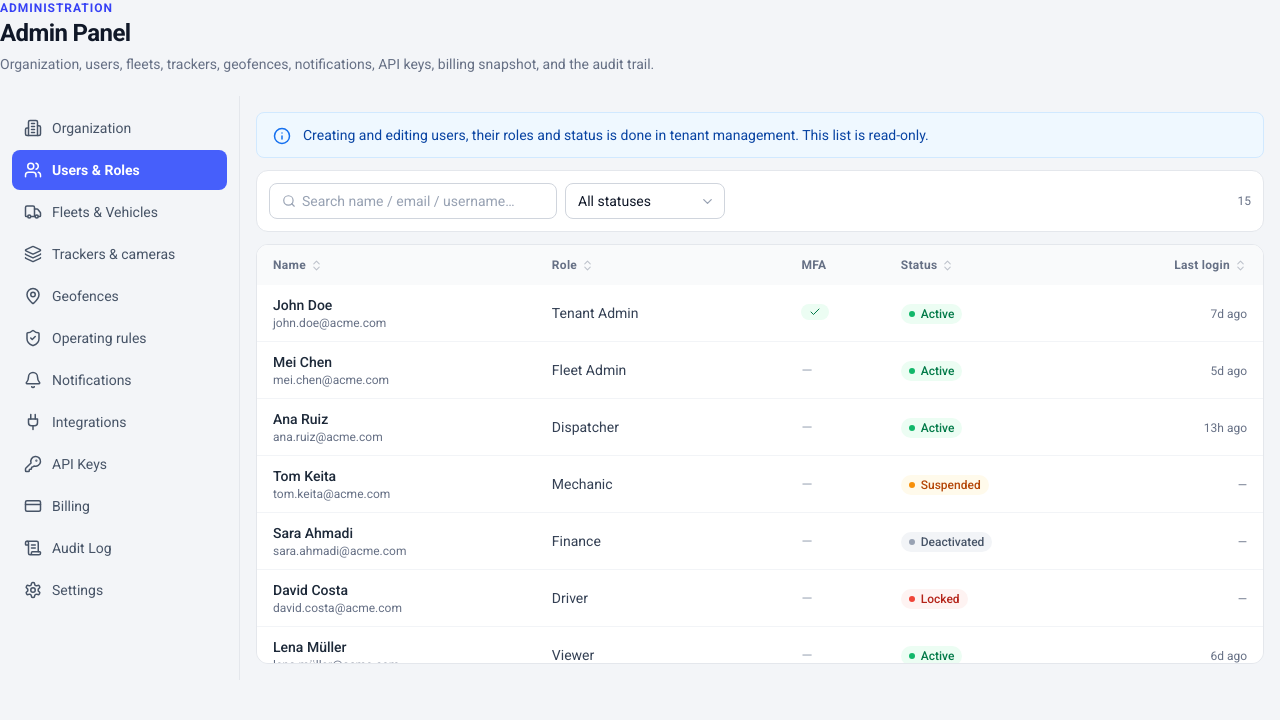
Scenario: AdminPage › opens the user detail drawer when a row is clicked
Click the text "john.doe@acme.com" at (330, 323), box [273, 316, 386, 330]
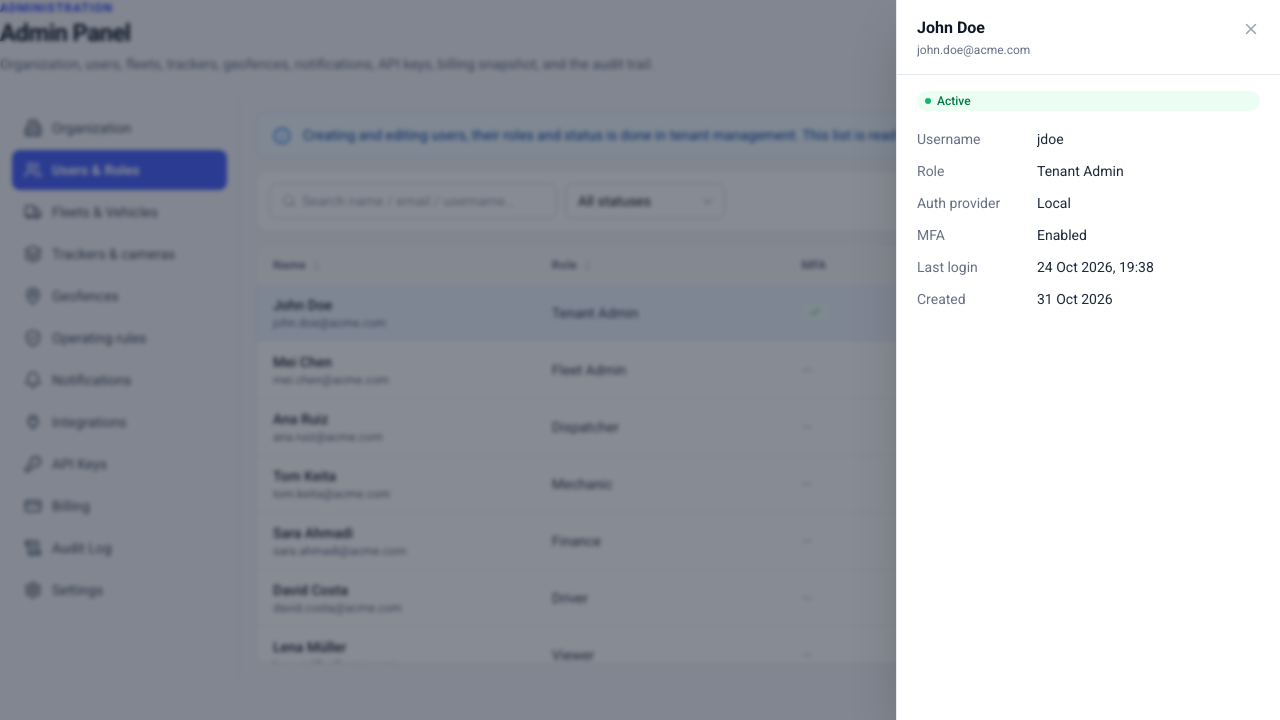
Expected: the dialog is shown, [896, 0, 1279, 719]
Expected: the text "Username" is shown, [917, 131, 980, 147]
